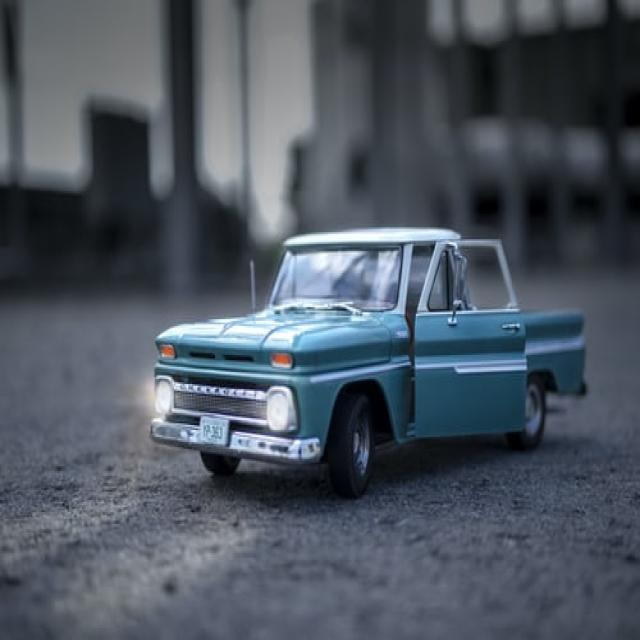Car: (148, 226, 588, 498)
